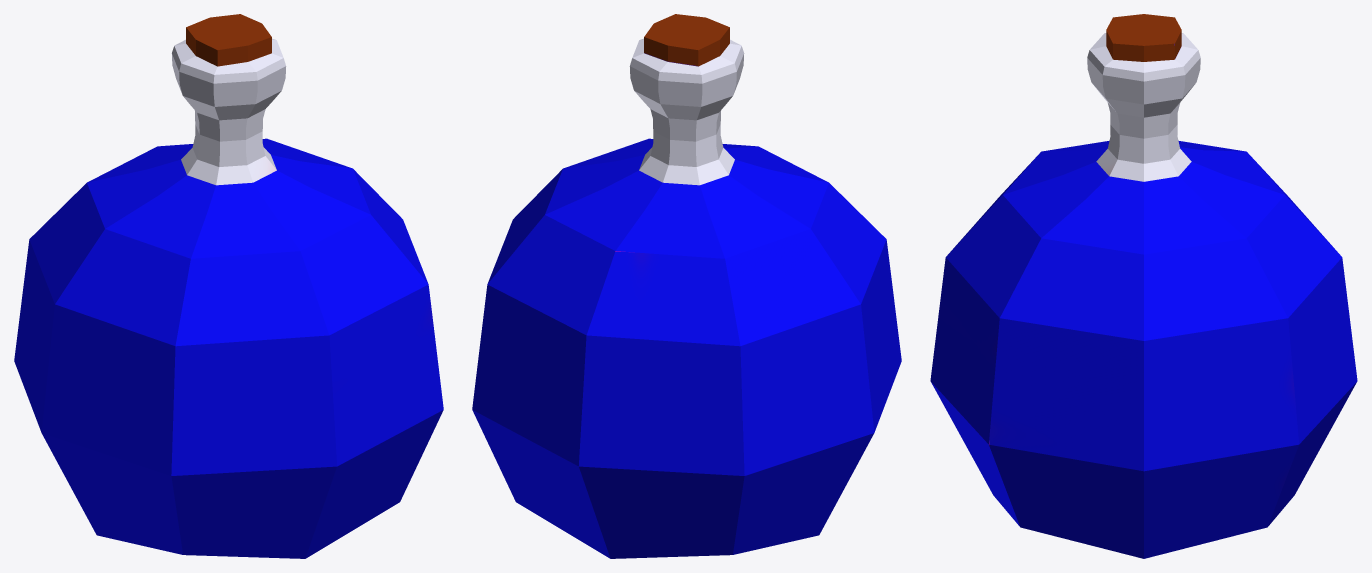
Rendered from ManaPotion.fbx.
3 views of the same model, side by side, from view 1: azimuth 30°, elevation 25°; view 2: azimuth 150°, elevation 25°; view 3: azimuth 270°, elevation 25° (orthographic).
Visible parts, largest first — view 1: Cube; view 2: Cube; view 3: Cube.
Boxes of the visible parts, <box> form: Cube: <box>14,14,443,558</box>; Cube: <box>472,14,901,558</box>; Cube: <box>930,14,1357,558</box>.
Bounding box in the file's own units: 135 × 135 × 177.
1 material, 1 textured.
